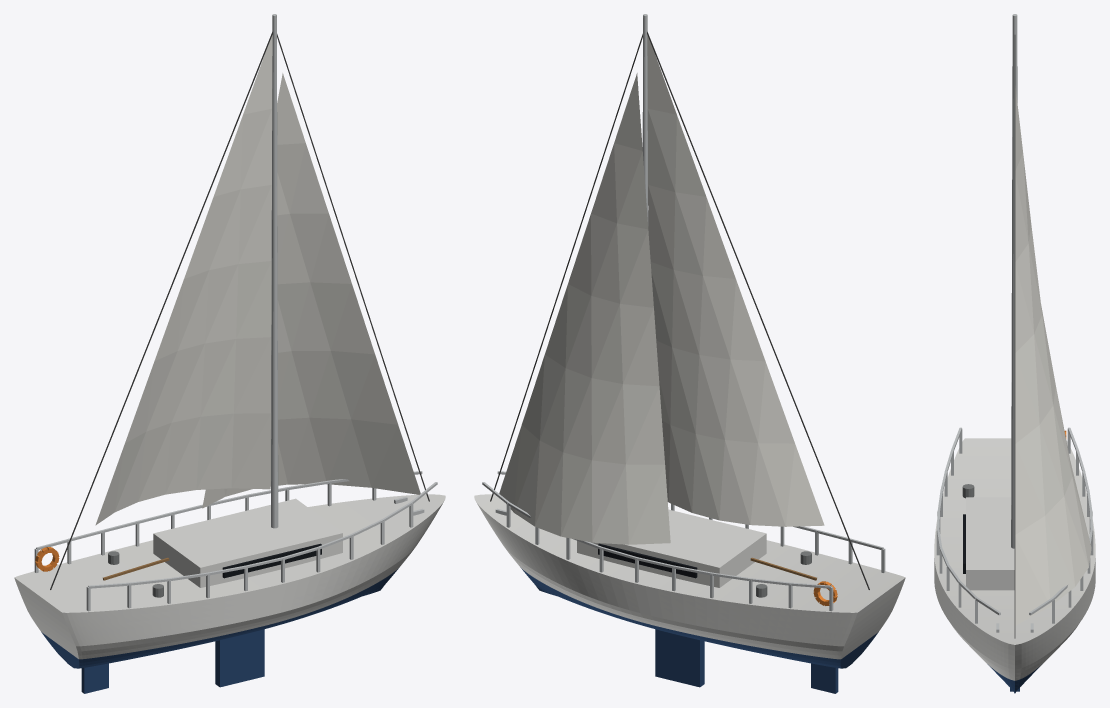
Rendered from sloop10.glb.
3 renders of one model, left to right at view 1: azimuth 30°, elevation 25°; view 2: azimuth 150°, elevation 25°; view 3: azimuth 270°, elevation 25°, orthographic. The views are drawn at different scales.
Parts seen in each view (by area): view 1: sloop10; view 2: sloop10; view 3: sloop10.
Part boxes in pixels (bbox=[...]): sloop10: bbox=[14, 14, 445, 693]; sloop10: bbox=[474, 14, 905, 693]; sloop10: bbox=[934, 14, 1095, 693].
Size of the model in its own units: 10 by 15.4 by 3.3.
